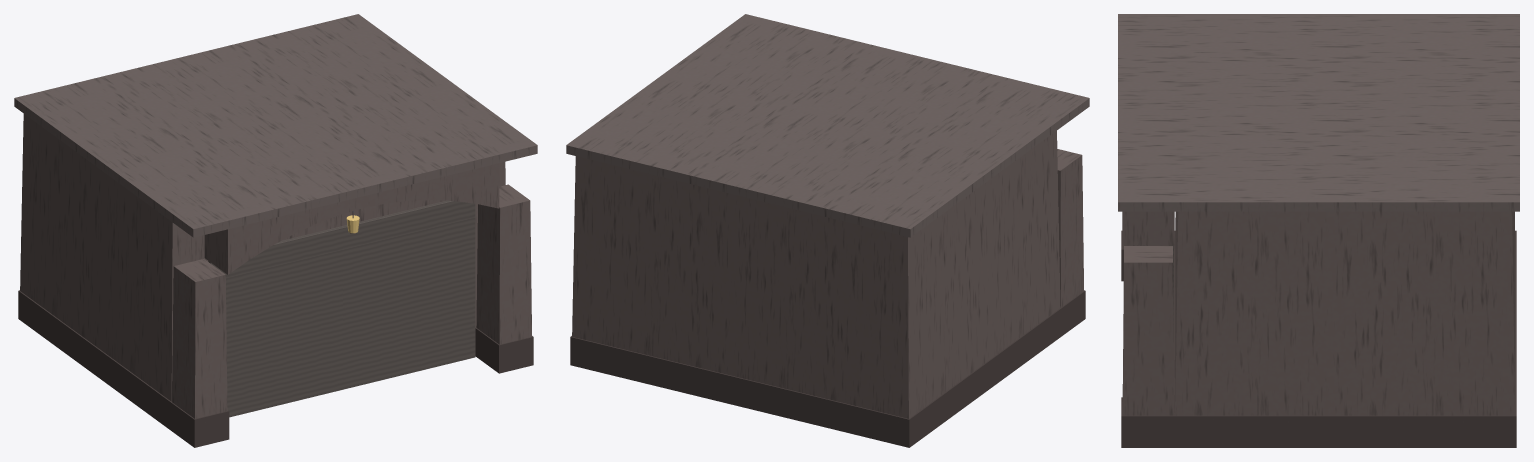
Rendered from SM_Souq_Stall_W5D45H30.fbx.
3 views of the same model, side by side, from view 1: azimuth 30°, elevation 25°; view 2: azimuth 150°, elevation 25°; view 3: azimuth 270°, elevation 25° (orthographic). The views are drawn at different scales.
Visible parts, largest first — view 1: SM_Souq_Stall_W5D45H30; view 2: SM_Souq_Stall_W5D45H30; view 3: SM_Souq_Stall_W5D45H30.
Boxes of the visible parts, x1,y1,x2,y2 form: SM_Souq_Stall_W5D45H30: [14, 14, 537, 447]; SM_Souq_Stall_W5D45H30: [566, 14, 1089, 447]; SM_Souq_Stall_W5D45H30: [1118, 14, 1519, 447].
Size of the model in its own units: 510 by 312 by 460.
Materials: 6 (6 with a texture image).
